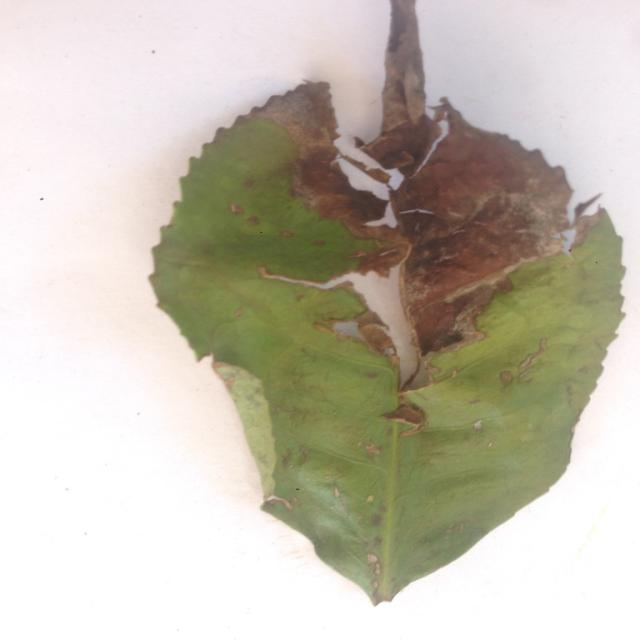Brown Blight: (136, 5, 611, 622)
